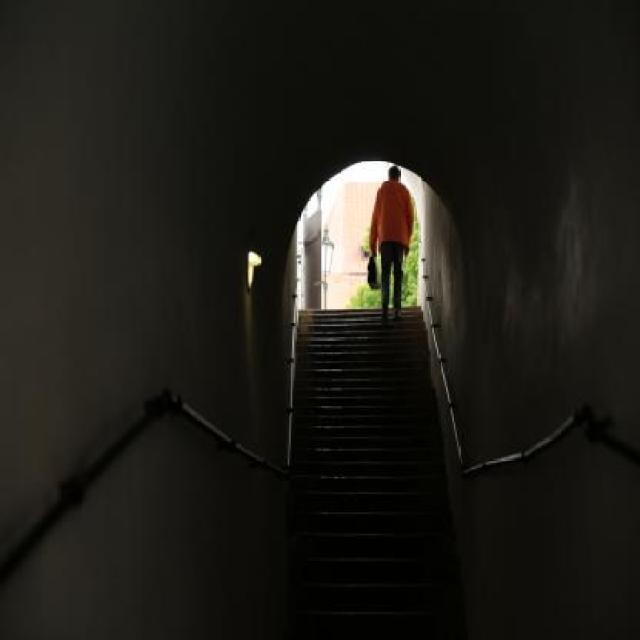stair: (288, 309, 470, 640)
